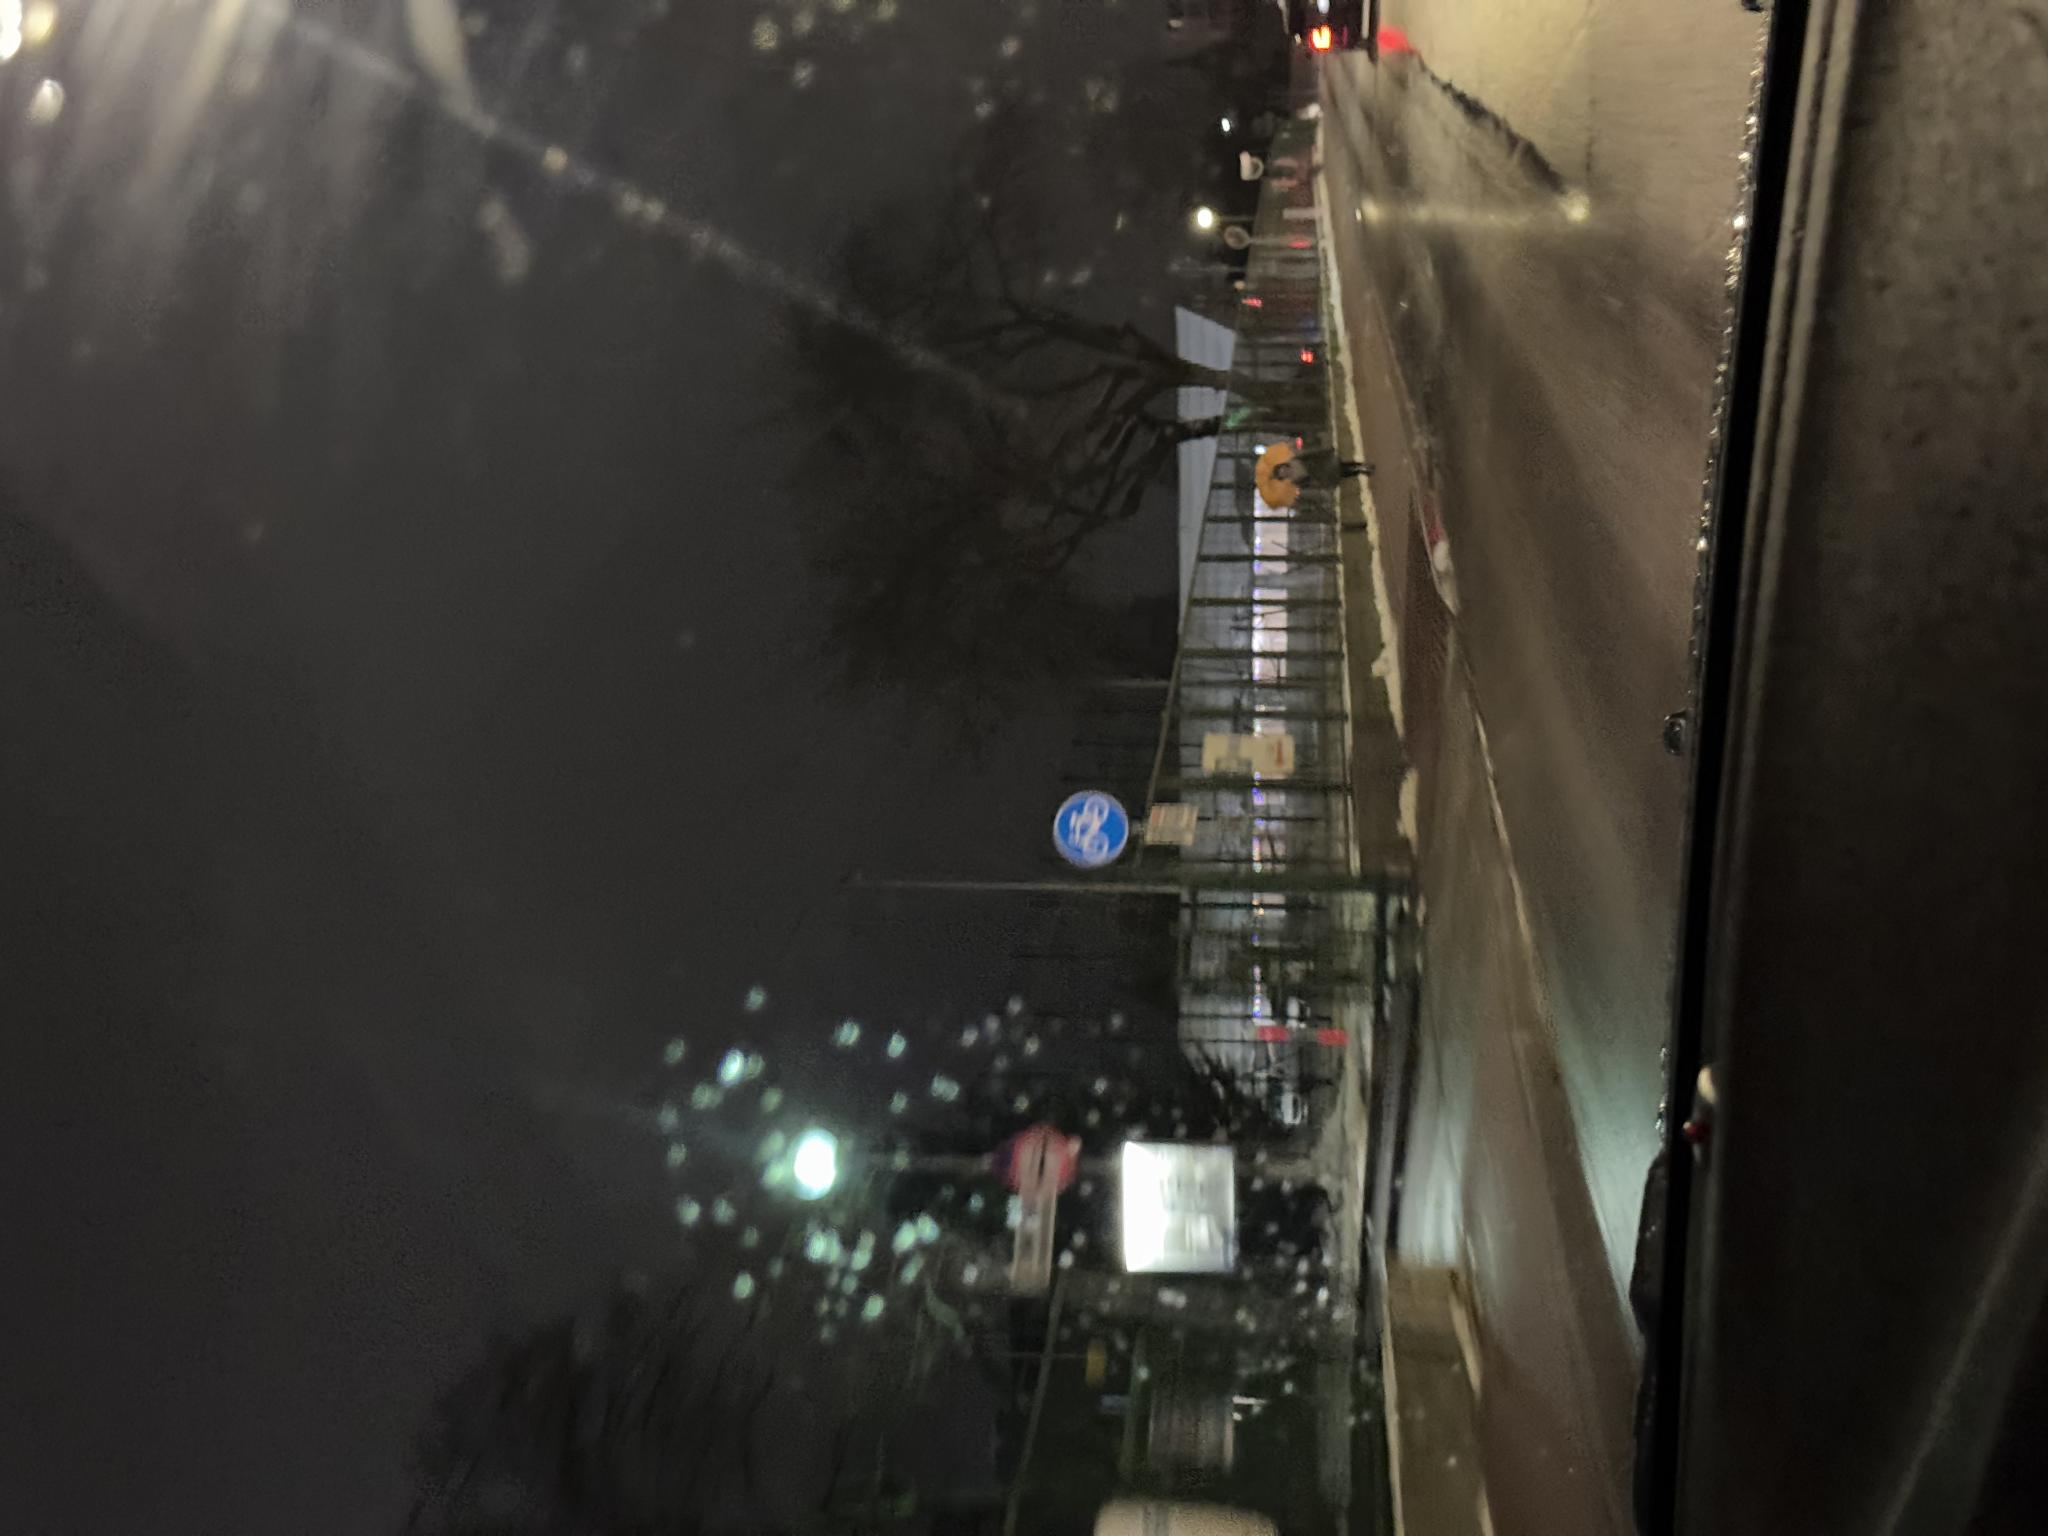mandatory: (668, 1052, 748, 1131)
